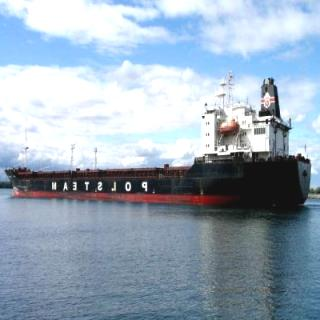Bulk Carrier: (21, 65, 315, 205)
